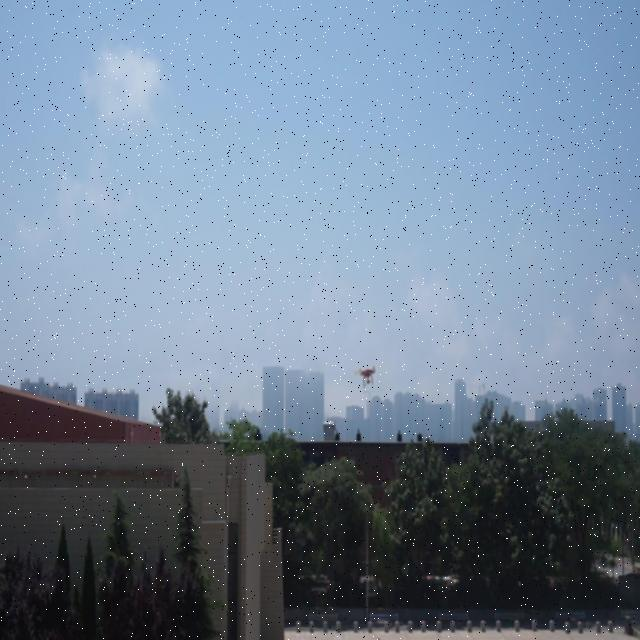UAV: (354, 365, 382, 388)
